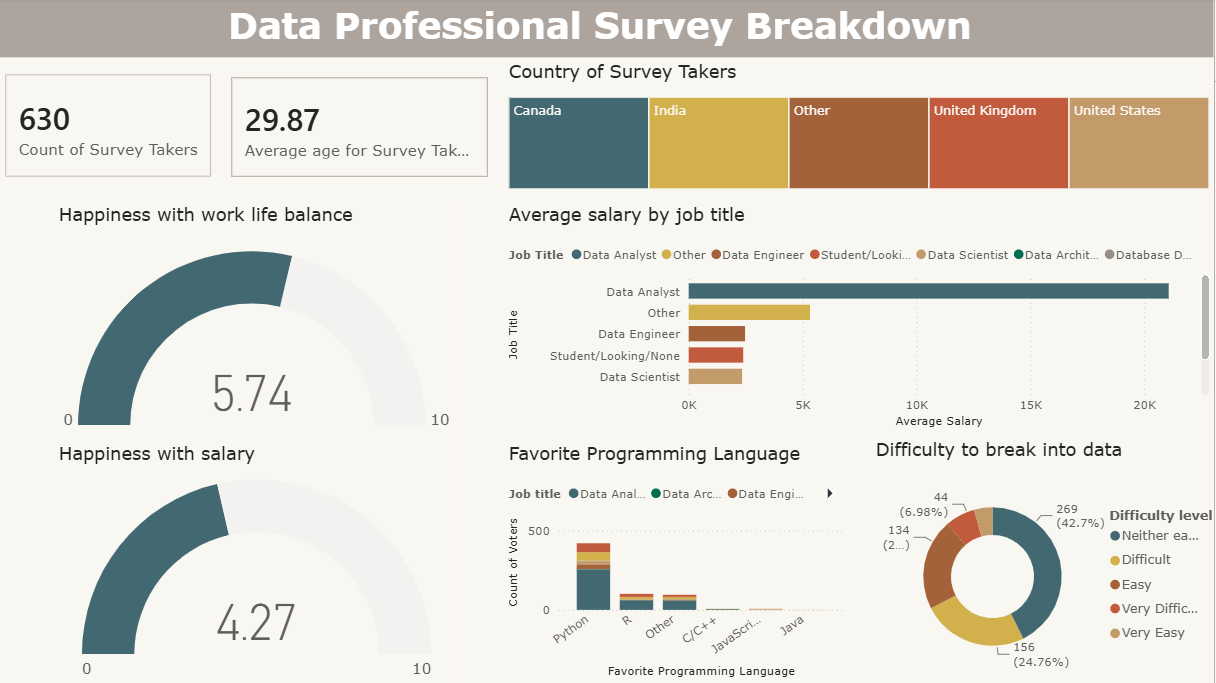

The page's visual inventory and layout, read from the dashboard file:
{"tool":"powerbi","page":{"name":"Page 1","canvas":[1280,720],"ordinal":0},"visuals":[{"type":"textbox","box":[9.7,0,1270.3,62.2],"z":0},{"type":"cardVisual","fields":{"Data":["CountNonNull(Data Professional Survey.Unique ID)"]},"box":[0,62.6,249.3,141.9],"z":1000},{"type":"cardVisual","fields":{"Data":["Avg(Data Professional Survey.Q10 - Current Age)"]},"box":[235.8,65.7,302.5,138.7],"z":2000},{"type":"barChart","title":"Average salary by job title ","fields":{"Category":["Data Professional Survey.Q1 - Which Title Best Fits your Current Role?.1"],"Y":["Sum(Data Professional Survey.Average salary )"],"Series":["Data Professional Survey.Q1 - Which Title Best Fits your Current Role?.1"]},"box":[538.3,213.9,741.7,239.9],"z":3000},{"type":"columnChart","title":"Favorite Programming Language  ","fields":{"Category":["Data Professional Survey.Q5 - Favorite Programming Language.1"],"Y":["CountNonNull(Data Professional Survey.Unique ID)"],"Series":["Data Professional Survey.Q1 - Which Title Best Fits your Current Role?.1"]},"box":[538.3,464.2,359.9,251.4],"z":4000},{"type":"treemap","title":"Country of Survey Takers","fields":{"Group":["Data Professional Survey.Q11 - Which Country do you live in?.1"],"Values":["Count(Data Professional Survey.Q11 - Which Country do you live in?.1)"]},"box":[538.3,64.7,741.7,139.8],"z":5000},{"type":"gauge","title":"Happiness with work life balance ","fields":{"Y":["Avg(Data Professional Survey.Q6 - How Happy are you in your Current Position with the following? (Work/Life Balance))"],"MinValue":["Min(Data Professional Survey.Q6 - How Happy are you in your Current Position with the following? (Work/Life Balance))"],"MaxValue":["Max(Data Professional Survey.Q6 - How Happy are you in your Current Position with the following? (Work/Life Balance))"]},"box":[67.8,213.9,423.5,253.5],"z":6000},{"type":"gauge","title":"Happiness with salary ","fields":{"Y":["Avg(Data Professional Survey.Q6 - How Happy are you in your Current Position with the following? (Salary))"],"MinValue":["Min(Data Professional Survey.Q6 - How Happy are you in your Current Position with the following? (Salary))"],"MaxValue":["Max(Data Professional Survey.Q6 - How Happy are you in your Current Position with the following? (Salary))"]},"box":[67.8,464.2,423.5,255.6],"z":7000},{"type":"donutChart","title":"Difficulty to break into data","fields":{"Category":["Data Professional Survey.Q7 - How difficult was it for you to break into Data?"],"Y":["CountNonNull(Data Professional Survey.Q7 - How difficult was it for you to break into Data?)"]},"box":[921.1,460,358.9,255.6],"z":8000}]}

Visuals, with their boxes in screenshot pixels (x1, y1, x2, y2), scaled from the page's 1280x720 canvas onto the 1216x683 screenshot:
textbox: 9:0:1215:59
cardVisual - CountNonNull(Data Professional Survey.Unique ID): 0:59:237:194
cardVisual - Avg(Data Professional Survey.Q10 - Current Age): 224:62:511:194
"Average salary by job title " barChart: 511:203:1215:430
"Favorite Programming Language  " columnChart: 511:440:853:679
"Country of Survey Takers" treemap: 511:61:1215:194
"Happiness with work life balance " gauge: 64:203:467:443
"Happiness with salary " gauge: 64:440:467:682
"Difficulty to break into data" donutChart: 875:436:1215:679
